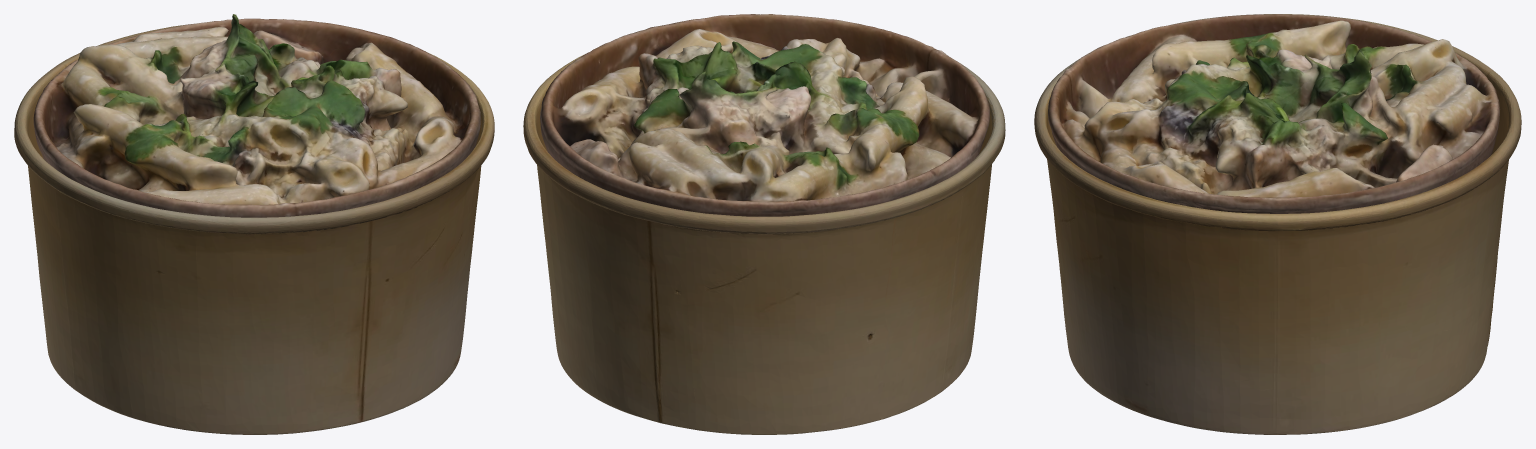
File: salad.makarani.glb
The picture shows the model from 3 angles, left to right: view 1: azimuth 30°, elevation 25°; view 2: azimuth 150°, elevation 25°; view 3: azimuth 270°, elevation 25°; orthographic projection.
Visible parts, largest first — view 1: world.001, 3DModel; view 2: world.001, 3DModel; view 3: world.001, 3DModel.
Boxes of the visible parts, x1,y1,x2,y2 form: world.001: (14,24,494,434); 3DModel: (33,14,480,217); world.001: (523,54,1005,434); 3DModel: (540,14,989,216); world.001: (1034,14,1521,434); 3DModel: (1048,14,1500,213).
Bounding box in the file's own units: 0.2281 × 0.1577 × 0.228.
Materials: 2 (2 with a texture image).
